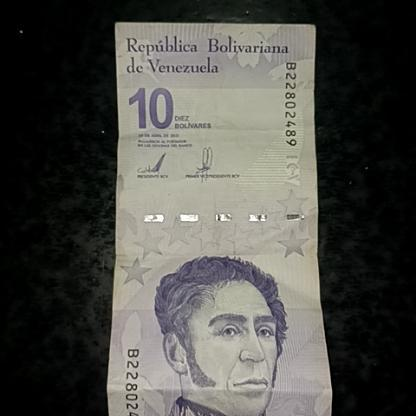ten-front-vef: (108, 24, 328, 416)
